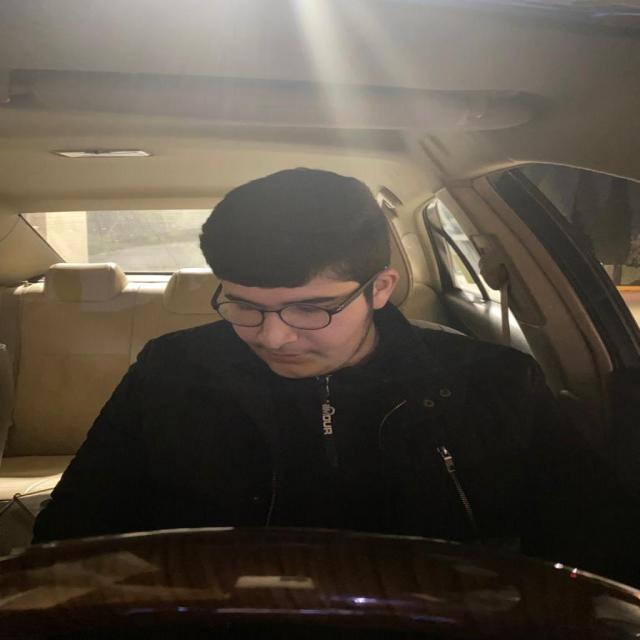drowsy: (209, 172, 400, 382)
